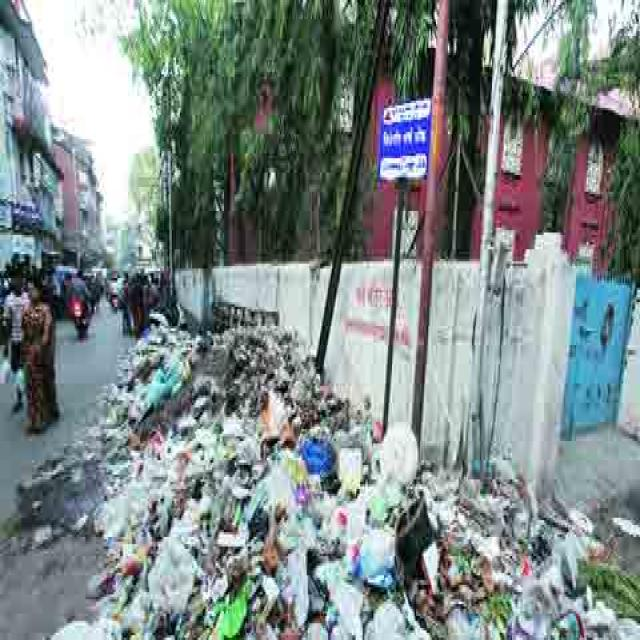garbage: (47, 291, 640, 640)
